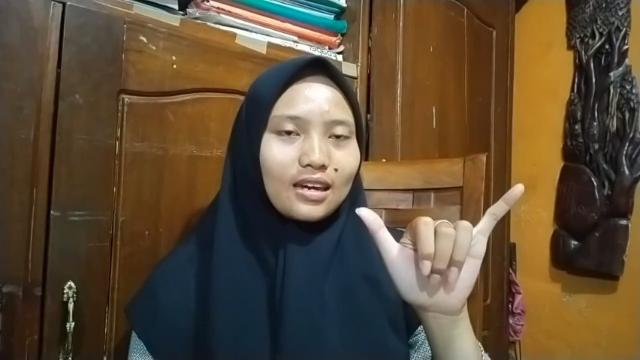Y: (351, 187, 539, 318)
